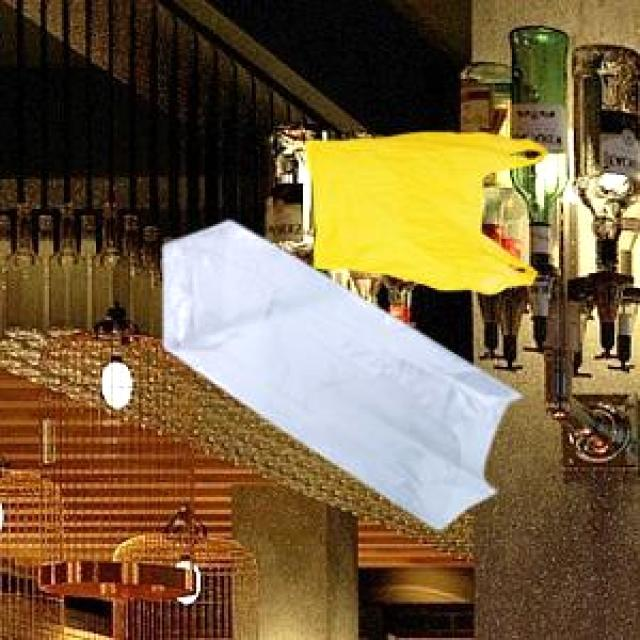Plastic_Bag: (158, 219, 518, 526), (302, 129, 545, 291)
